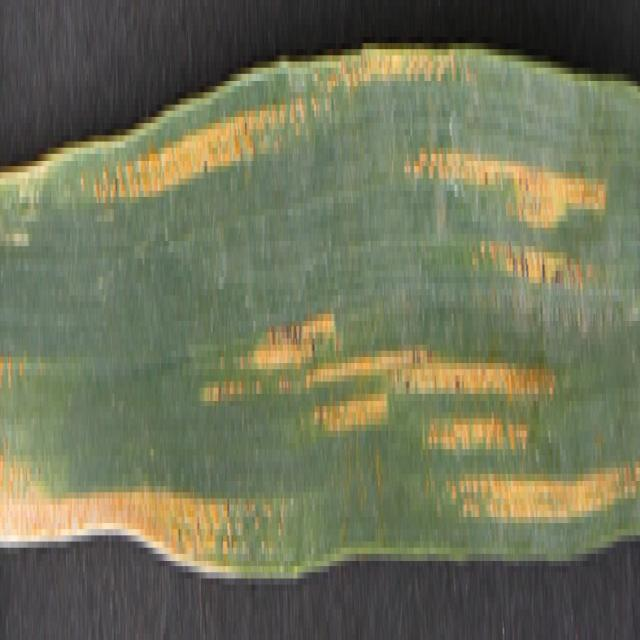leaf rust: (1, 24, 637, 578)
